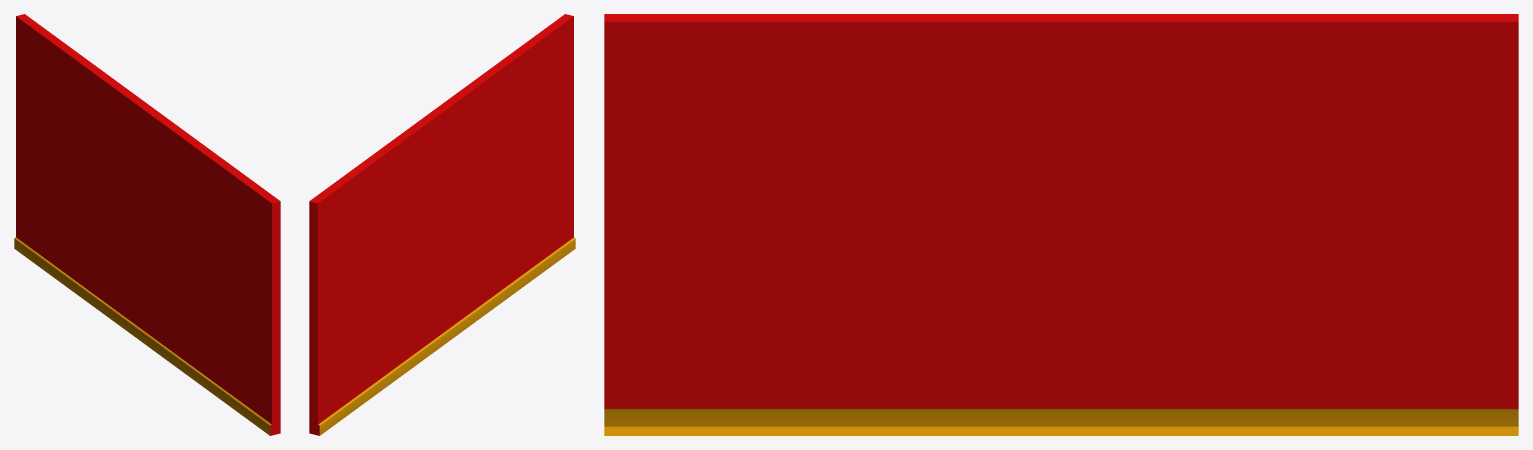
File: Wall_00_1S.fbx
3 views of the same model, side by side, from view 1: azimuth 30°, elevation 25°; view 2: azimuth 150°, elevation 25°; view 3: azimuth 270°, elevation 25° (orthographic). The views are drawn at different scales.
Parts seen in each view (by area): view 1: Wall_00; view 2: Wall_00; view 3: Wall_00.
Part boxes in pixels (x1,y1,x2,y2): Wall_00: (14,14,280,435); Wall_00: (309,14,575,435); Wall_00: (604,14,1518,435).
Bounding box in the file's own units: 240 × 5000 × 10000.
